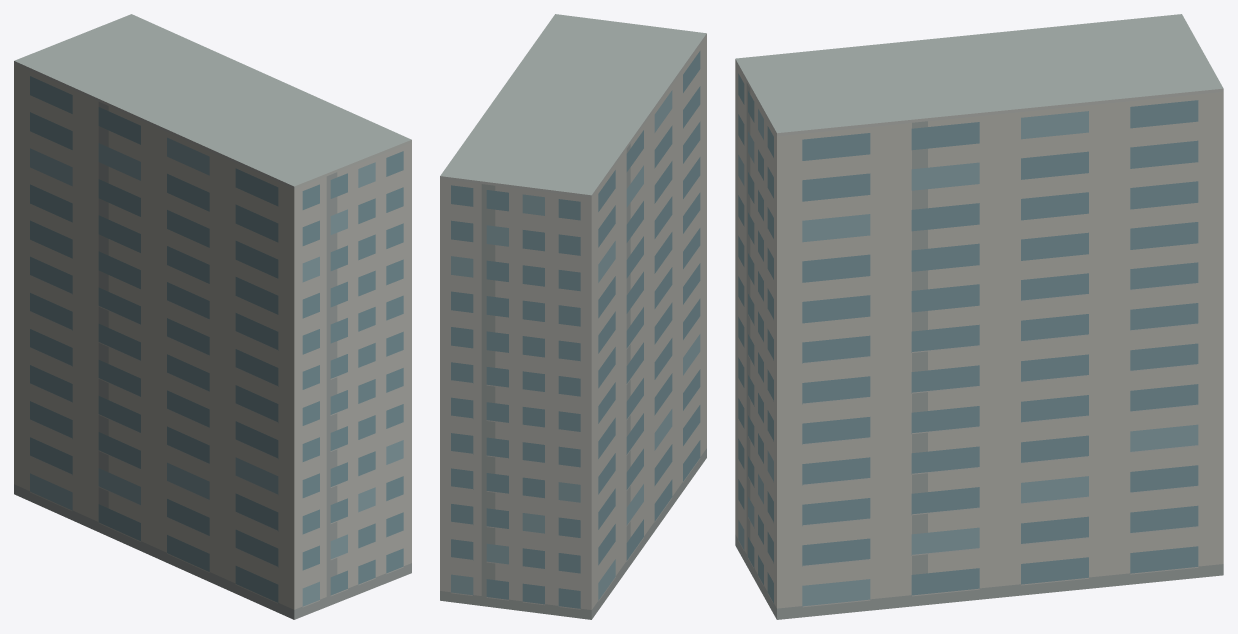
The model's file is residential-8ad7cec0-fc66-4441-8a41-bd3193a62cb7.glb.
3 renders of one model, left to right at view 1: azimuth 30°, elevation 25°; view 2: azimuth 150°, elevation 25°; view 3: azimuth 270°, elevation 25°, orthographic. The views are drawn at different scales.
Parts seen in each view (by area): view 1: residential-8ad7cec0-fc66-4441-8a41-bd3193a62cb7.tmp; view 2: residential-8ad7cec0-fc66-4441-8a41-bd3193a62cb7.tmp; view 3: residential-8ad7cec0-fc66-4441-8a41-bd3193a62cb7.tmp.
Boxes of the visible parts, x1=… form: residential-8ad7cec0-fc66-4441-8a41-bd3193a62cb7.tmp: x1=14, y1=14, x2=411, y2=619; residential-8ad7cec0-fc66-4441-8a41-bd3193a62cb7.tmp: x1=440, y1=14, x2=706, y2=619; residential-8ad7cec0-fc66-4441-8a41-bd3193a62cb7.tmp: x1=735, y1=14, x2=1223, y2=619.
Size of the model in its own units: 20.49 by 39 by 35.48.
